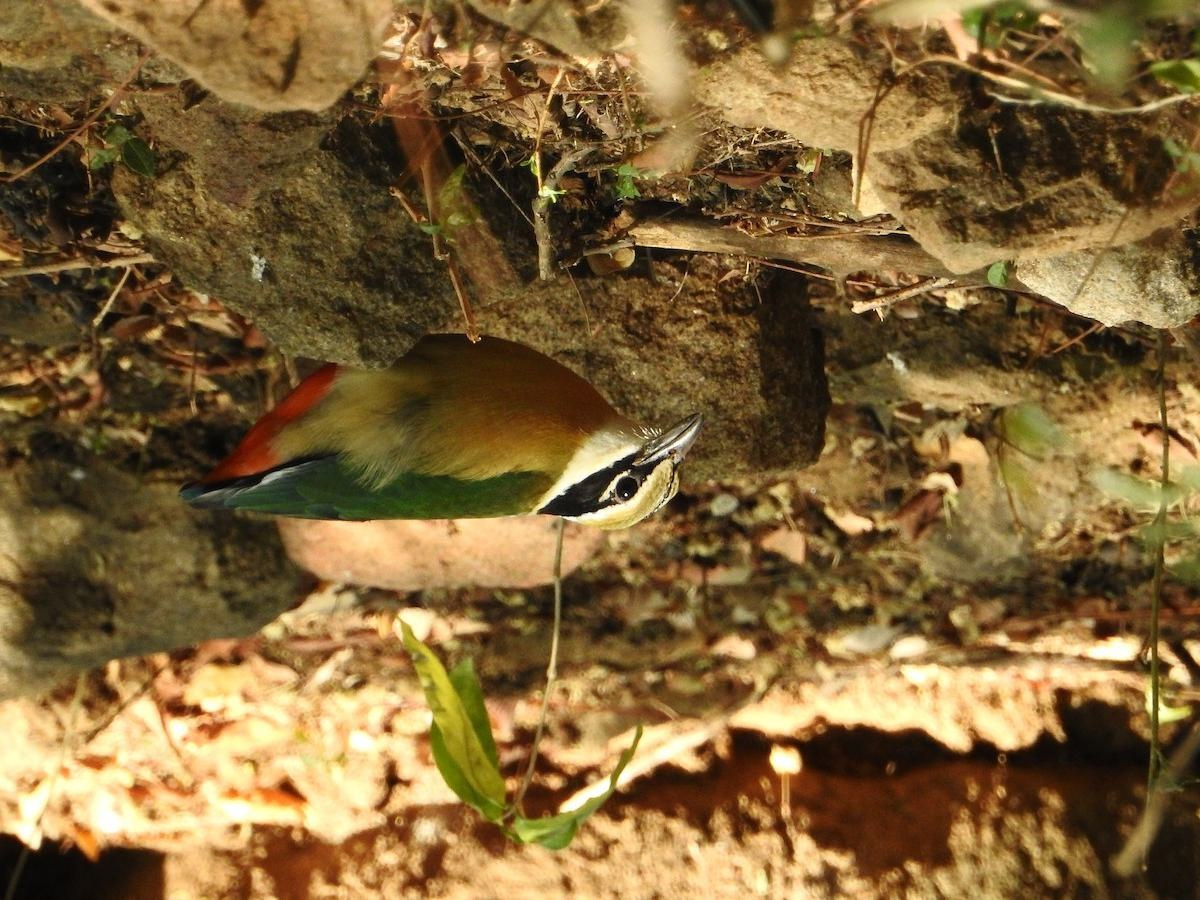pitta: (173, 302, 736, 560)
